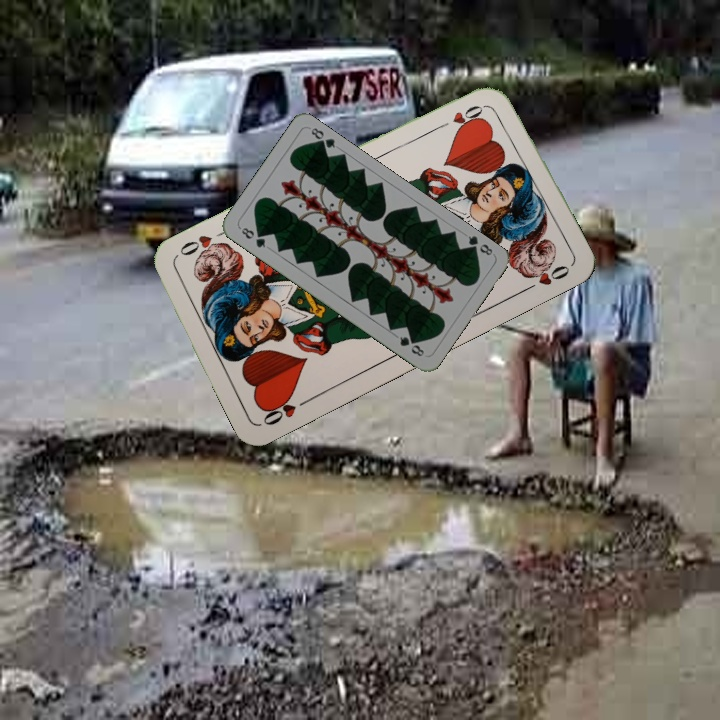G8: (236, 223, 268, 250), (463, 231, 495, 258)
HO: (258, 392, 313, 428), (433, 100, 489, 132)
